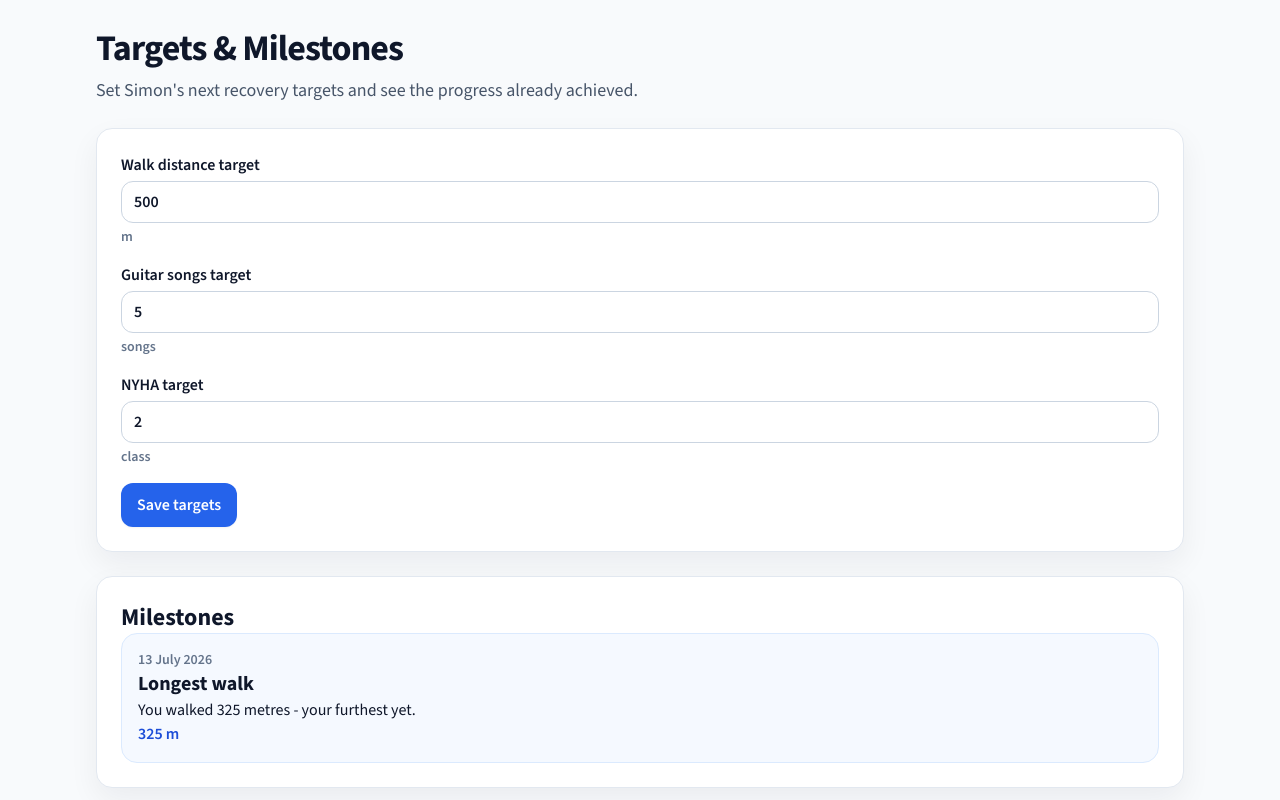
Targets › keeps typed values visible when save fails
The width and height of the screenshot is (1280, 800).
Replace the text in the number field labelled "Walk distance target" with "650" at (640, 202), box x1=121 y1=181 x2=1159 y2=223
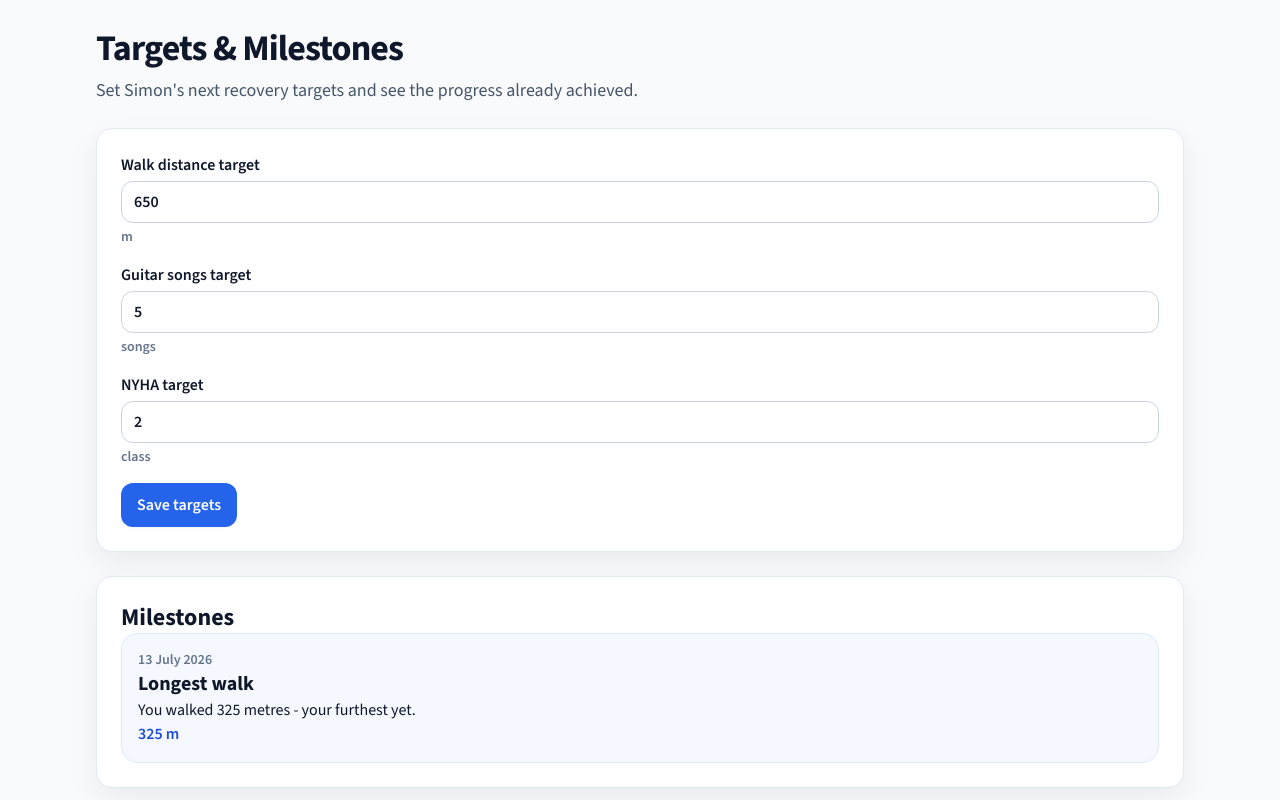
Click the button "Save targets".
click(179, 505)  # box x1=121 y1=483 x2=237 y2=527
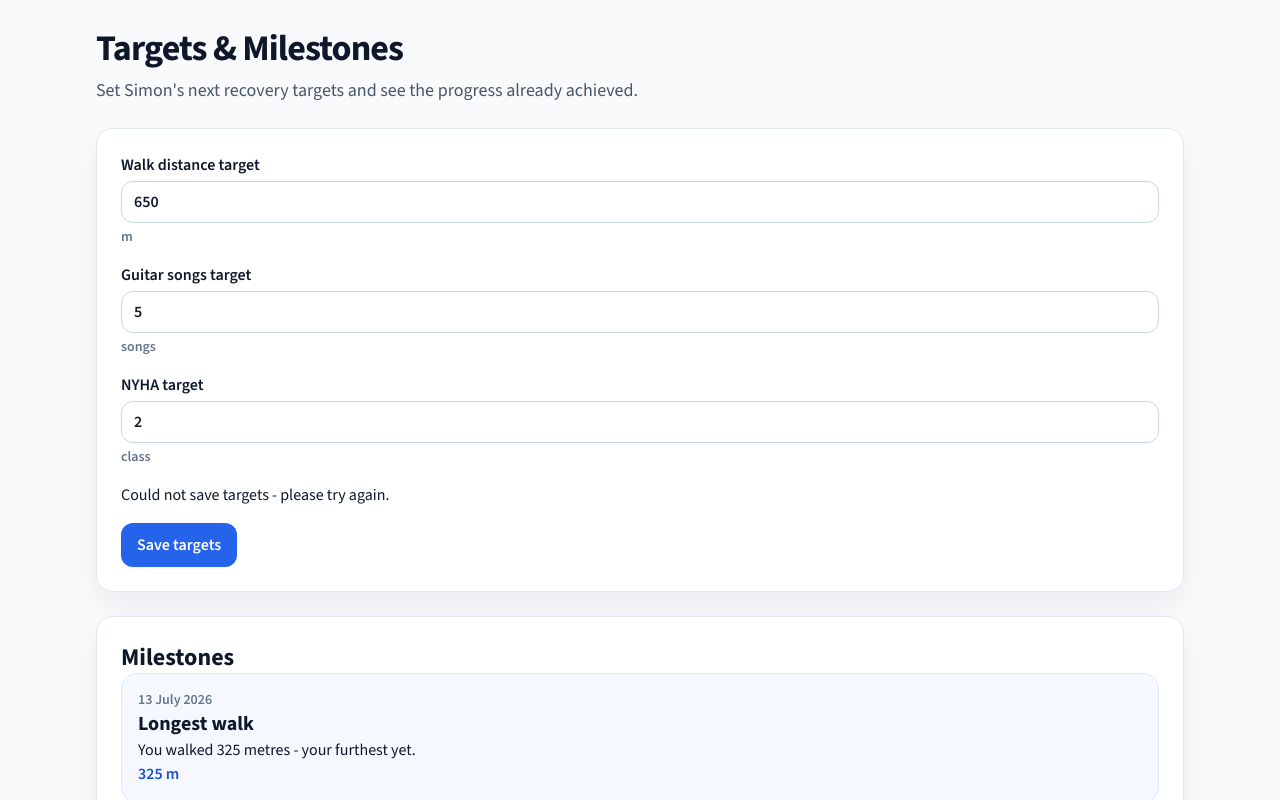
Expected: the text "Could not save targets - please try again." is shown, x1=121 y1=484 x2=389 y2=505
